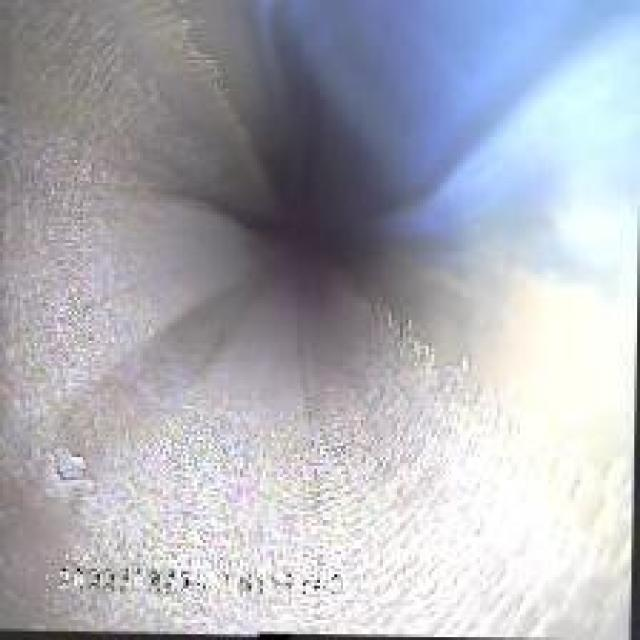ferrule: (34, 434, 89, 492)
